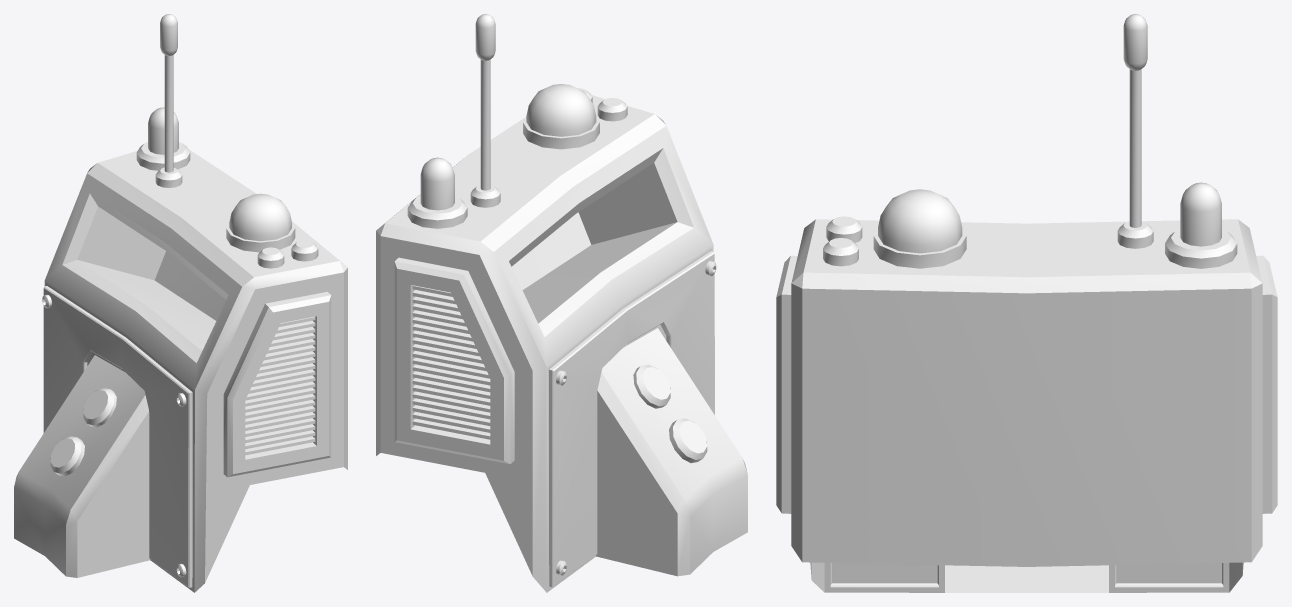
File: LowPoly_FireShooter.fbx
3 views of the same model, side by side, from view 1: azimuth 30°, elevation 25°; view 2: azimuth 150°, elevation 25°; view 3: azimuth 270°, elevation 25° (orthographic). The views are drawn at different scales.
Parts seen in each view (by area): view 1: LowPoly_FireShooter; view 2: LowPoly_FireShooter; view 3: LowPoly_FireShooter.
Part boxes in pixels (<box>): LowPoly_FireShooter: <box>14,14,347,592</box>; LowPoly_FireShooter: <box>376,14,747,592</box>; LowPoly_FireShooter: <box>776,14,1277,592</box>.
Bounding box in the file's own units: 59.81 × 116 × 83.01.
1 material, 1 textured.
